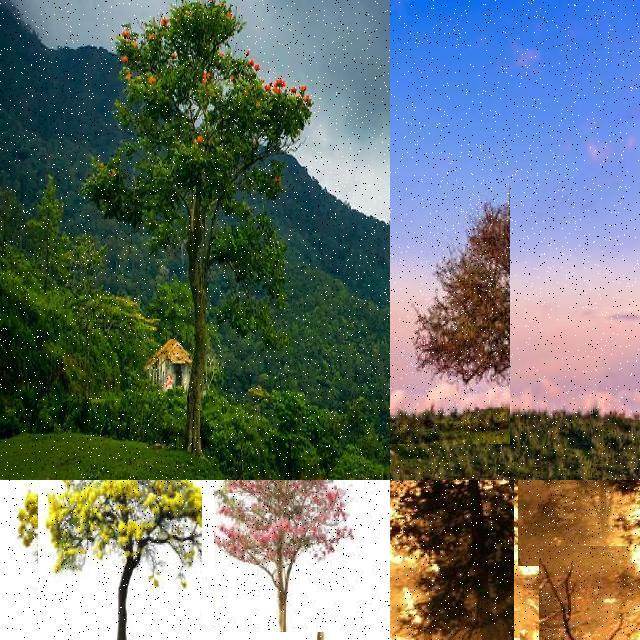tree: (81, 1, 311, 456), (390, 176, 510, 444), (25, 480, 195, 640), (214, 480, 390, 632), (38, 480, 202, 640), (240, 480, 390, 640), (390, 480, 538, 624), (390, 480, 514, 640), (0, 480, 116, 624), (0, 480, 72, 640), (518, 480, 640, 566), (539, 546, 640, 640), (26, 176, 70, 308), (540, 480, 640, 526)
